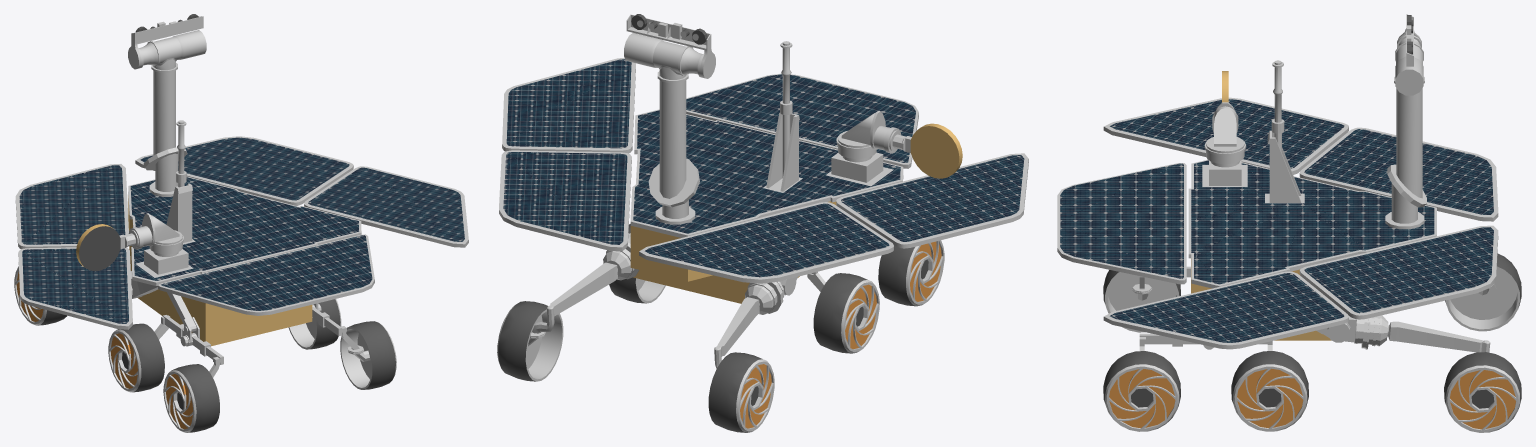
Rendered from opportunity.glb.
3 views of the same model, side by side, from view 1: azimuth 30°, elevation 25°; view 2: azimuth 150°, elevation 25°; view 3: azimuth 270°, elevation 25° (orthographic). The views are drawn at different scales.
Parts seen in each view (by area): view 1: Solar Panel, Solar Panel.001, Solar Panel.002, Base, wheel.003, wheel.005, wheel, PMA.002, PMA.003, HGA.001, wheel.002, PMA.001 (+9 smaller); view 2: Solar Panel, Solar Panel.002, Solar Panel.001, wheel.005, wheel.004, PMA.002, wheel.001, wheel.003, Base, PMA.003, Rocker-Bogie Suspension System.004, HGA.001 (+10 smaller); view 3: Solar Panel, Solar Panel.001, Solar Panel.002, wheel.001, wheel, wheel.002, PMA.002, wheel.004, Rocker-Bogie Suspension System.004, wheel.003, LGA.001, PMA.003 (+9 smaller).
Part boxes in pixels (x1,y1,x2,y2): Solar Panel: (128,176,374,315); Solar Panel.001: (135,136,468,247); Solar Panel.002: (15,164,132,329); Base: (128,195,312,346); wheel.003: (163,364,219,432); wheel.005: (108,323,164,392); wheel: (340,321,396,389); PMA.002: (143,68,186,165); PMA.003: (138,30,206,71); HGA.001: (76,224,120,271); wheel.002: (288,299,341,349); PMA.001: (128,14,203,69); Solar Panel: (630,73,918,237); Solar Panel.002: (639,153,1028,283); Solar Panel.001: (499,57,635,251); wheel.005: (813,273,879,353); wheel.004: (708,352,774,432); PMA.002: (648,77,698,206); wheel.001: (497,301,563,381); wheel.003: (878,240,944,306); Base: (630,201,836,303); PMA.003: (624,33,704,81); Rocker-Bogie Suspension System.004: (530,249,634,337); HGA.001: (910,123,962,178); Solar Panel: (1057,159,1436,288); Solar Panel.001: (1103,225,1498,349); Solar Panel.002: (1103,97,1498,221); wheel.001: (1444,352,1521,432); wheel: (1103,351,1180,431); wheel.002: (1231,351,1308,431); PMA.002: (1389,82,1426,205); wheel.004: (1445,253,1521,331); Rocker-Bogie Suspension System.004: (1368,315,1490,352); wheel.003: (1103,270,1180,332); LGA.001: (1267,130,1301,202); PMA.003: (1394,35,1424,95).
Bounding box in the file's own units: 2.63 × 1.73 × 2.09.
5 materials, 1 textured.
